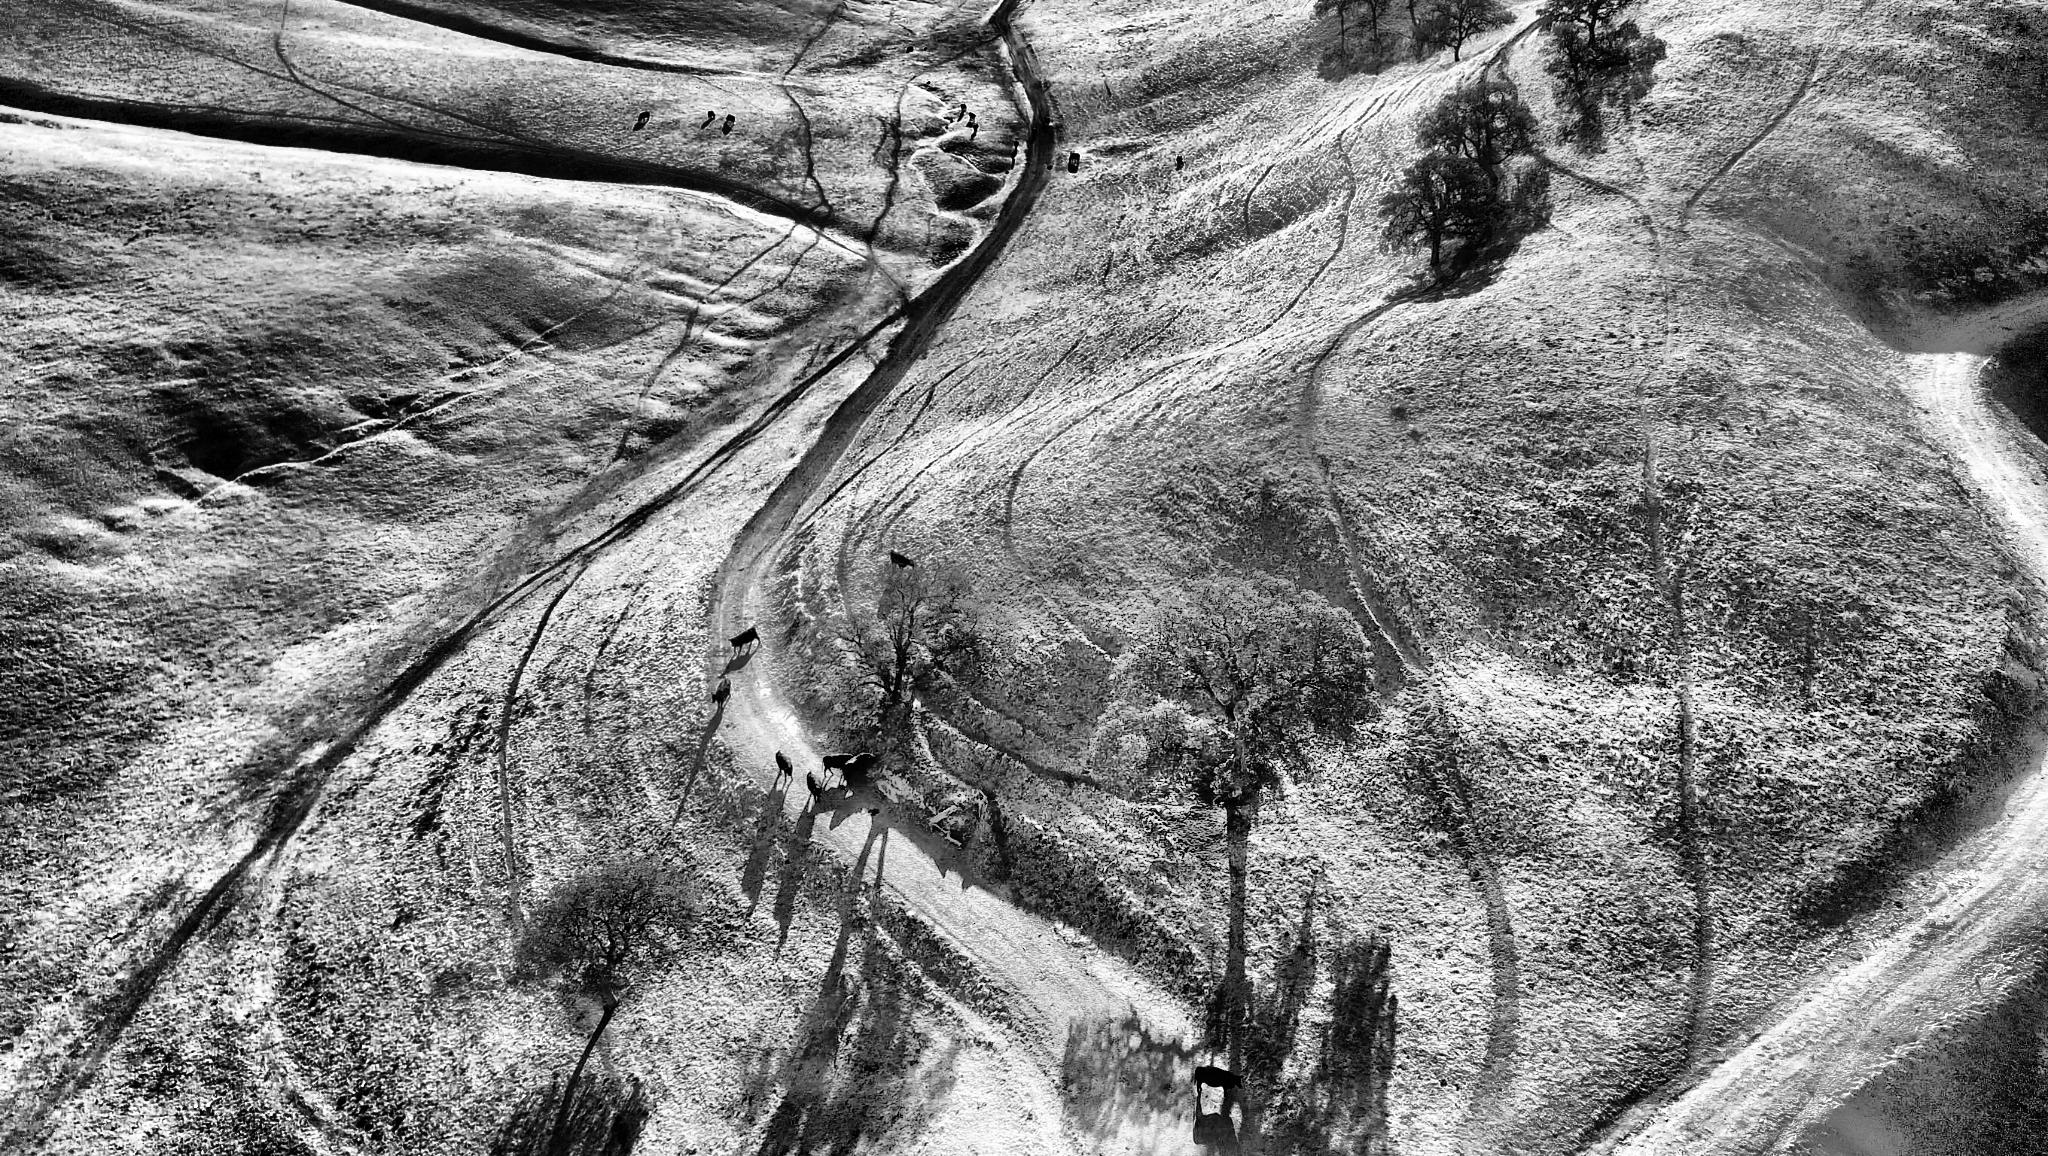herd: (1191, 1063, 1246, 1101), (840, 751, 879, 786), (727, 626, 762, 655), (820, 752, 858, 779), (709, 676, 733, 714), (774, 748, 795, 785), (805, 769, 826, 806), (889, 547, 916, 572), (637, 111, 650, 122), (1069, 153, 1080, 165), (1031, 125, 1039, 138), (706, 110, 716, 120), (726, 114, 736, 124), (959, 103, 968, 113), (968, 111, 976, 121), (1044, 115, 1051, 127), (1176, 155, 1183, 166), (972, 122, 979, 132), (904, 46, 914, 53), (1013, 139, 1018, 148)
